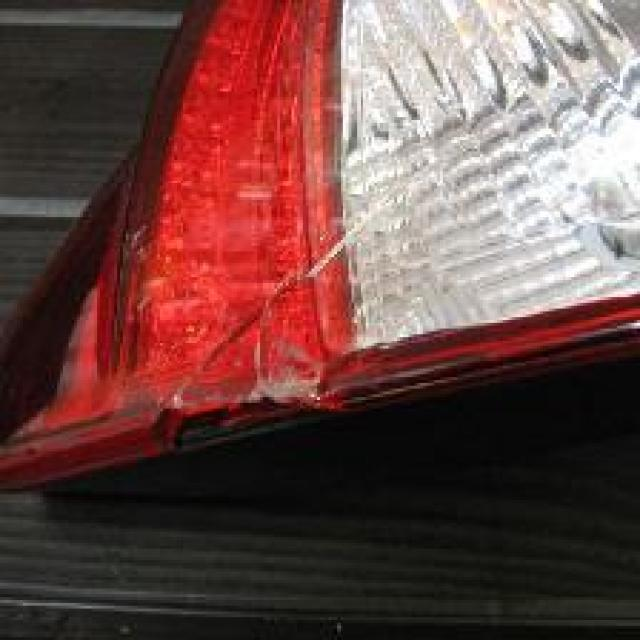damaged: (140, 177, 417, 454)
